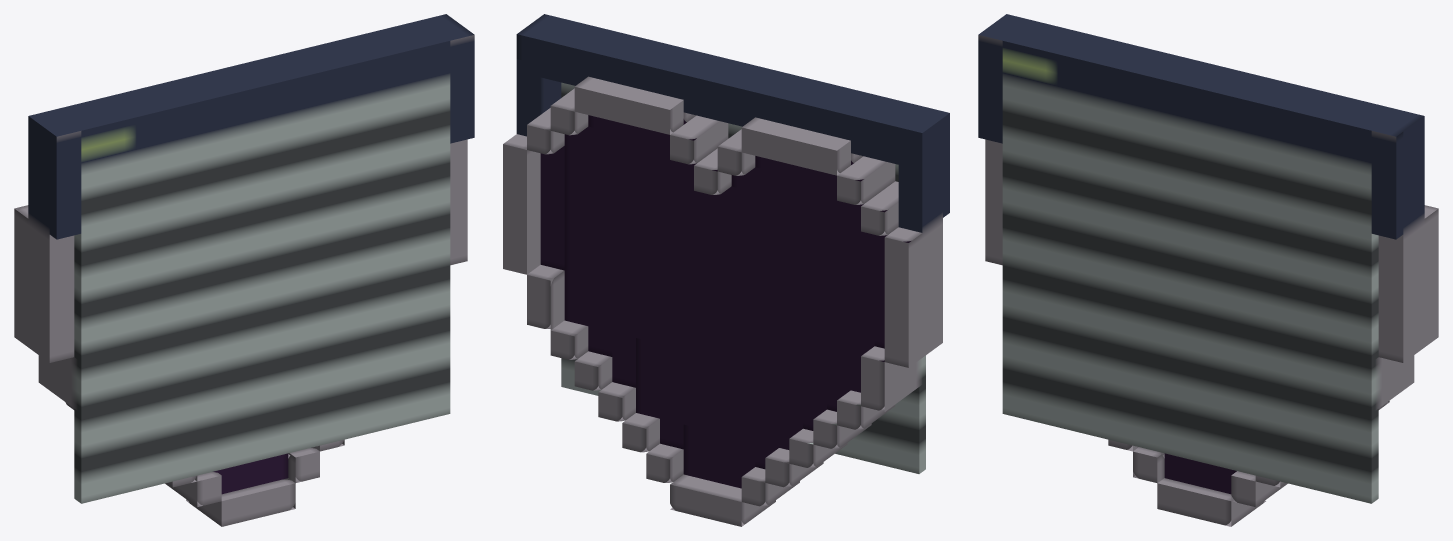
The model's file is okno_zas.dae.
3 views of the same model, side by side, from view 1: azimuth 30°, elevation 25°; view 2: azimuth 150°, elevation 25°; view 3: azimuth 330°, elevation 25° (orthographic). The views are drawn at different scales.
Parts seen in each view (by area): view 1: Content; view 2: Content; view 3: Content.
Boxes of the visible parts, x1,y1,x2,y2 form: Content: (14, 14, 474, 526); Content: (503, 14, 949, 526); Content: (978, 14, 1438, 526).
Bounding box in the file's own units: 34 × 34 × 6.
1 material, 1 textured.
